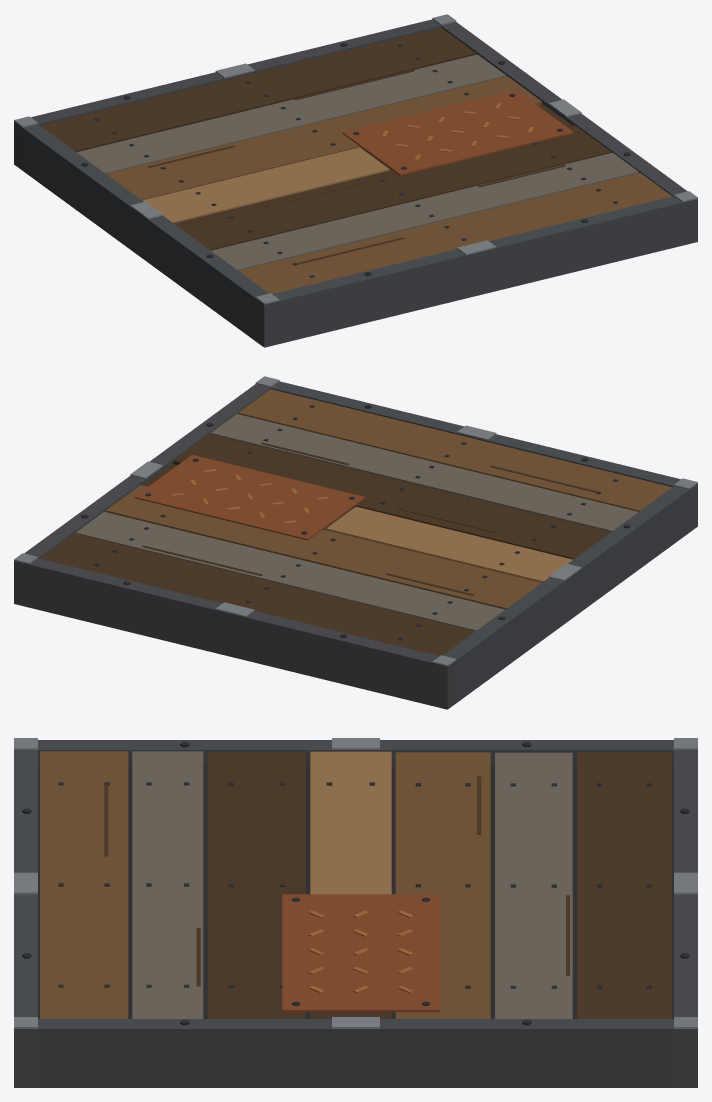
The model's file is piece_floor.fbx.
The picture shows the model from 3 angles, top to bottom: view 1: azimuth 30°, elevation 25°; view 2: azimuth 150°, elevation 25°; view 3: azimuth 270°, elevation 25°; orthographic projection. The views are drawn at different scales.
Parts seen in each view (by area): view 1: piece_floor; view 2: piece_floor; view 3: piece_floor.
Boxes of the visible parts, x1,y1,x2,y2 form: piece_floor: (14,14,697,347); piece_floor: (14,376,697,709); piece_floor: (14,738,697,1087).
Bounding box in the file's own units: 2 × 0.199 × 2.
